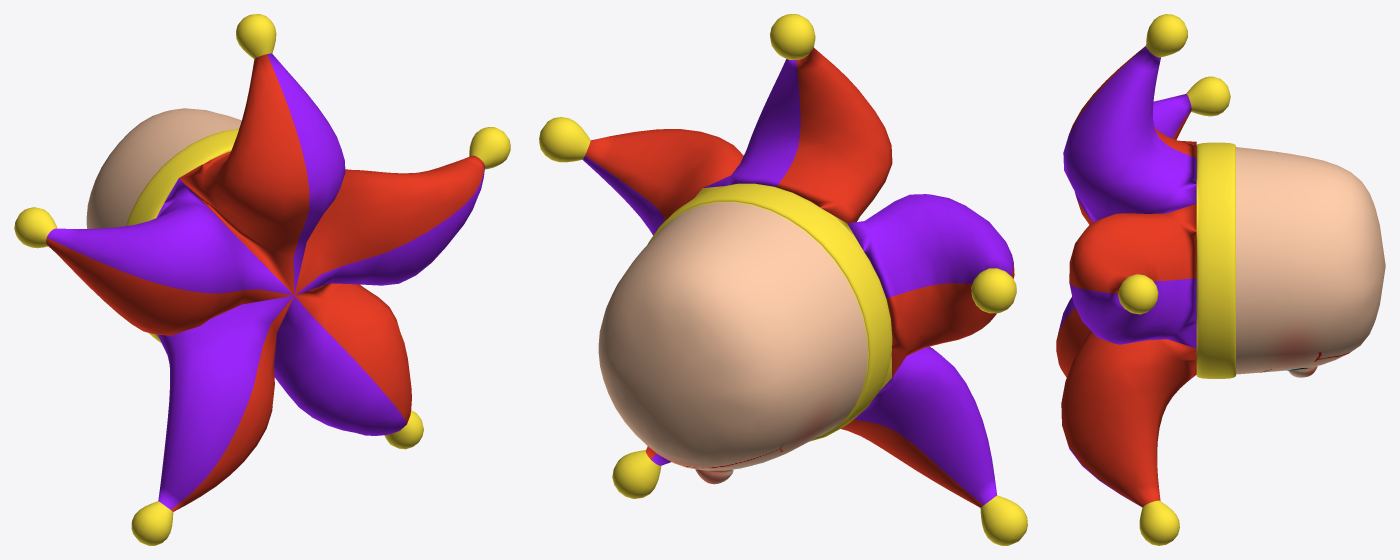
Rendered from BuffoonHead.obj.
3 renders of one model, left to right at view 1: azimuth 30°, elevation 25°; view 2: azimuth 150°, elevation 25°; view 3: azimuth 270°, elevation 25°, orthographic. The views are drawn at different scales.
Parts seen in each view (by area): view 1: BuffoonHead; view 2: BuffoonHead; view 3: BuffoonHead.
Part boxes in pixels (x1,y1,x2,y2): BuffoonHead: (14, 14, 510, 545); BuffoonHead: (539, 14, 1027, 545); BuffoonHead: (1056, 14, 1385, 545).
Bounding box in the file's own units: 0.3153 × 0.3077 × 0.2001.
4 materials, 1 textured.
